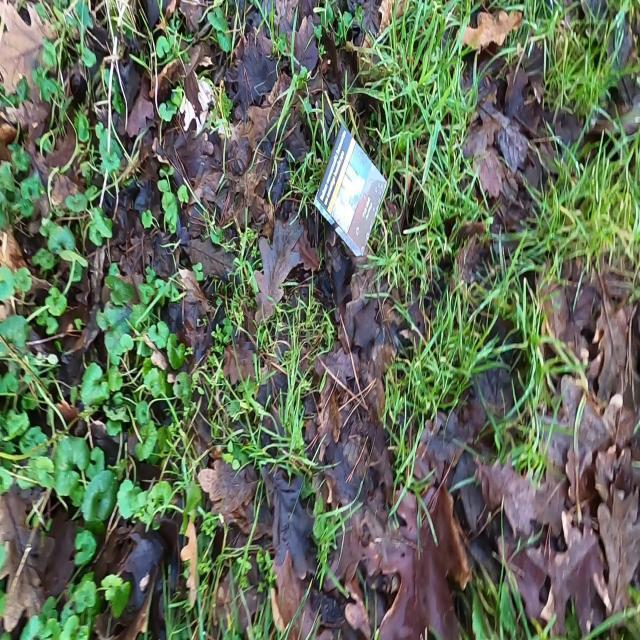Paper: (311, 125, 389, 258)
